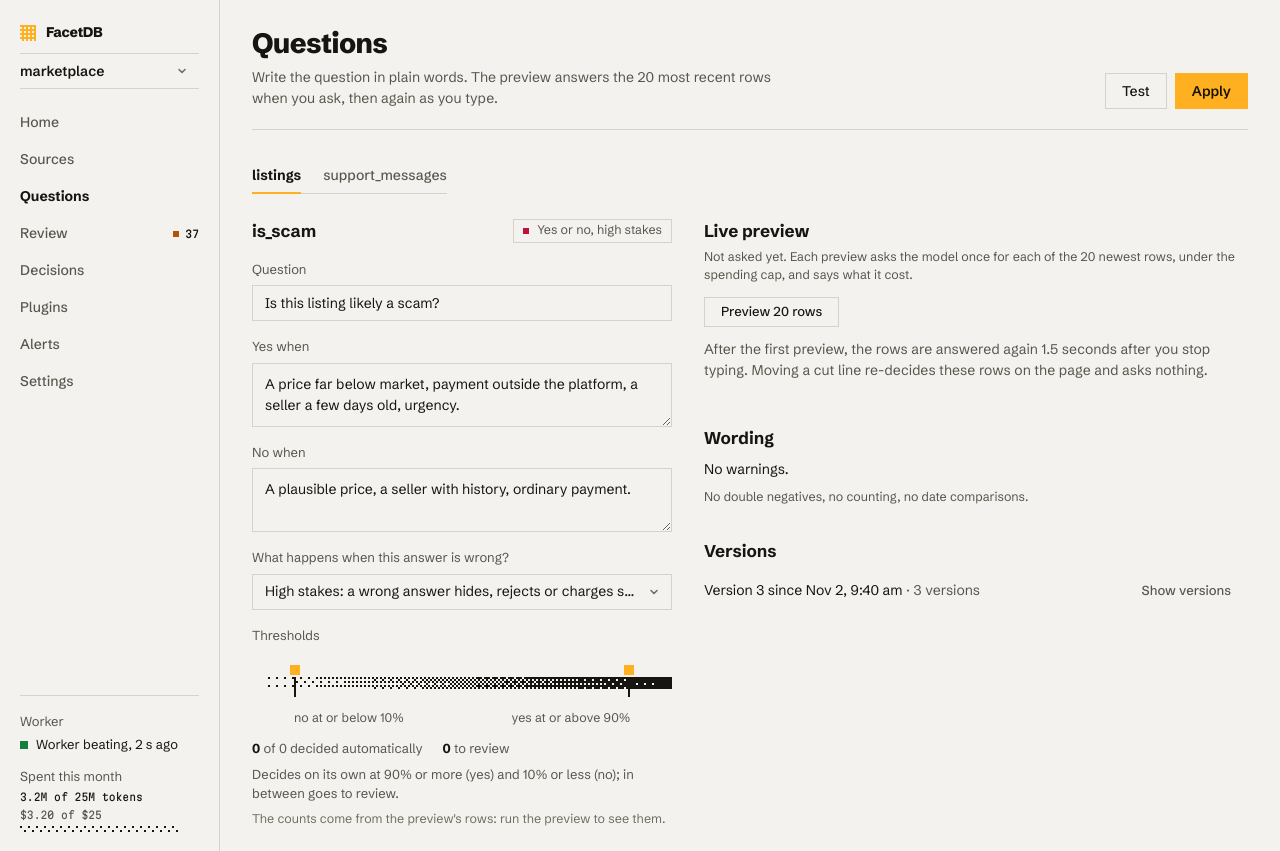
Scenario: the Questions page › says a source with one version in one line, with no count
The image size is (1280, 851).
expect the element "is_scam" is shown: met, box 252,218 -> 672,828
Click the tab "support_messages".
click(385, 176)  # box 323,158 -> 447,194
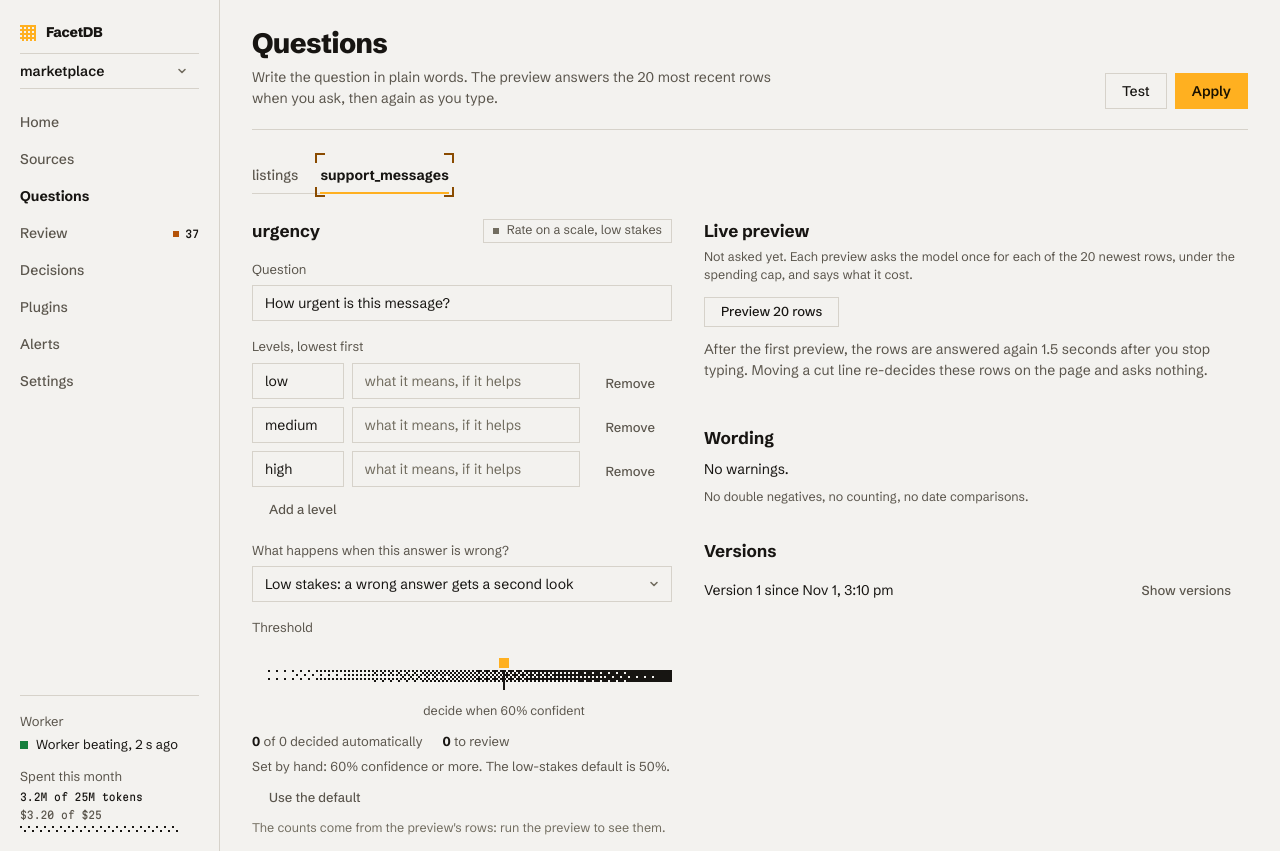
expect the text "Version 1 since Nov 1, 3:10 pm" does not show "versions": met, box 704,580 -> 894,601
expect the element "urgency" is shown: met, box 252,218 -> 672,837
